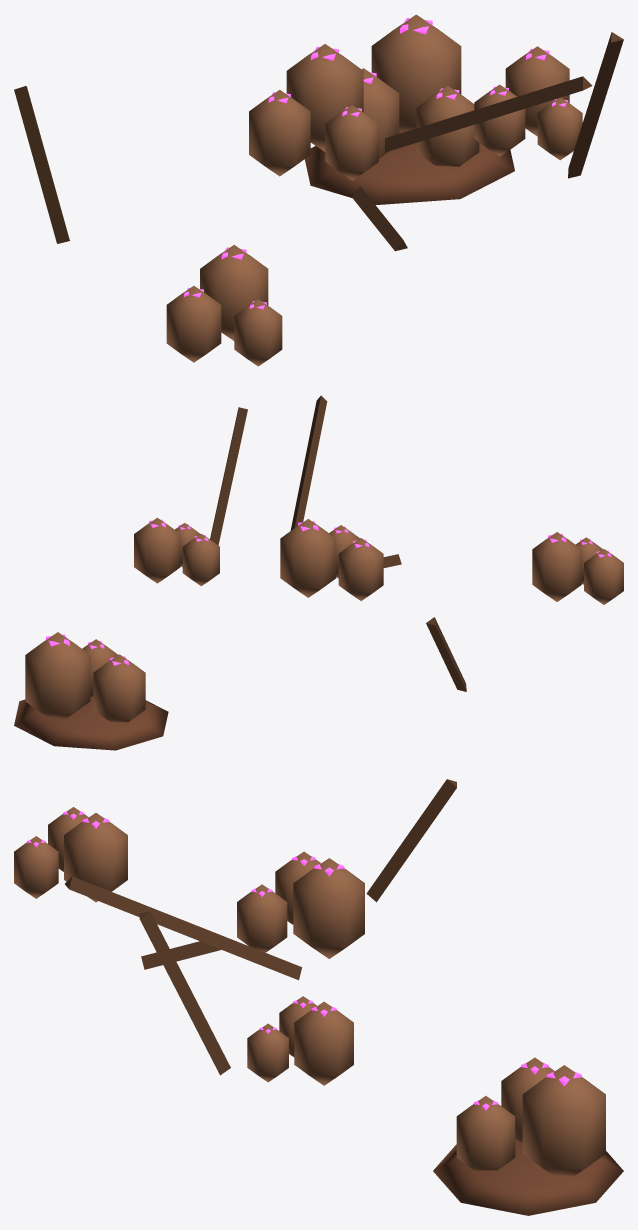
The model's file is overworld-settlement-eggs-town.glb.
3 views of the same model, one above another, from view 1: azimuth 30°, elevation 25°; view 2: azimuth 150°, elevation 25°; view 3: azimuth 270°, elevation 25° (orthographic). The views are drawn at different scales.
Visible parts, largest first — view 1: cluster2_mound, cluster2_egg0, cluster0_egg0, cluster0_egg1, cluster1_egg0, cluster1_egg1, cluster2_egg2, cluster0_egg2, web3, cluster3_egg0, cluster1_egg2, web1 (+5 smaller); view 2: cluster2_mound, cluster2_egg0, cluster0_egg0, cluster2_egg1, cluster1_egg0, cluster3_egg0, cluster0_egg1, cluster1_egg1, cluster3_egg1, web3, web0, web1 (+2 smaller); view 3: cluster2_mound, cluster2_egg0, cluster0_egg0, cluster1_egg0, cluster3_egg0, cluster2_egg2, web3, cluster0_egg2, web0, cluster1_egg2, web1, cluster3_egg2 (+5 smaller).
Part boxes in pixels (bbox=[...]): cluster2_mound: bbox=[304, 129, 514, 204]; cluster2_egg0: bbox=[371, 14, 461, 131]; cluster0_egg0: bbox=[286, 44, 363, 151]; cluster0_egg1: bbox=[249, 90, 310, 176]; cluster1_egg0: bbox=[200, 245, 268, 340]; cluster1_egg1: bbox=[166, 286, 221, 362]; cluster2_egg2: bbox=[416, 86, 479, 166]; cluster0_egg2: bbox=[325, 105, 378, 180]; web3: bbox=[385, 76, 592, 152]; cluster3_egg0: bbox=[505, 46, 569, 136]; cluster1_egg2: bbox=[234, 299, 282, 366]; web1: bbox=[14, 86, 69, 243]; cluster2_mound: bbox=[14, 696, 168, 750]; cluster2_egg0: bbox=[25, 632, 90, 718]; cluster0_egg0: bbox=[280, 519, 336, 597]; cluster2_egg1: bbox=[93, 654, 145, 722]; cluster1_egg0: bbox=[532, 532, 581, 601]; cluster3_egg0: bbox=[134, 517, 180, 583]; cluster0_egg1: bbox=[338, 538, 383, 600]; cluster1_egg1: bbox=[584, 549, 623, 604]; cluster3_egg1: bbox=[182, 533, 219, 586]; web3: bbox=[290, 395, 327, 530]; web0: bbox=[210, 407, 247, 545]; web1: bbox=[426, 617, 466, 691]; cluster2_mound: bbox=[433, 1138, 623, 1215]; cluster2_egg0: bbox=[522, 1065, 605, 1175]; cluster0_egg0: bbox=[293, 858, 364, 958]; cluster1_egg0: bbox=[64, 813, 127, 902]; cluster3_egg0: bbox=[294, 1001, 353, 1085]; cluster2_egg2: bbox=[456, 1096, 515, 1170]; web3: bbox=[65, 876, 301, 980]; cluster0_egg2: bbox=[237, 884, 287, 952]; web0: bbox=[139, 911, 230, 1075]; cluster1_egg2: bbox=[14, 836, 58, 898]; web1: bbox=[366, 779, 456, 902]; cluster3_egg2: bbox=[247, 1023, 288, 1082].
Size of the model in its own units: 0.5417 by 0.2521 by 0.5307.
